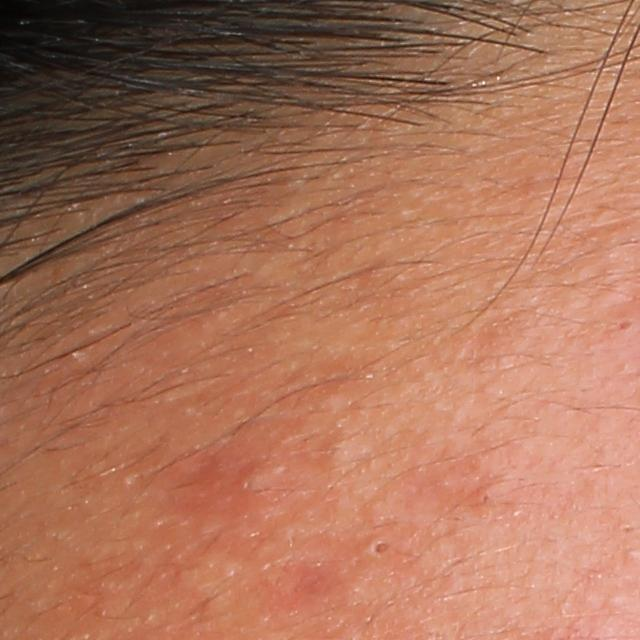comedo: (233, 458, 286, 511), (320, 433, 361, 465), (362, 534, 397, 561), (122, 467, 136, 488)
